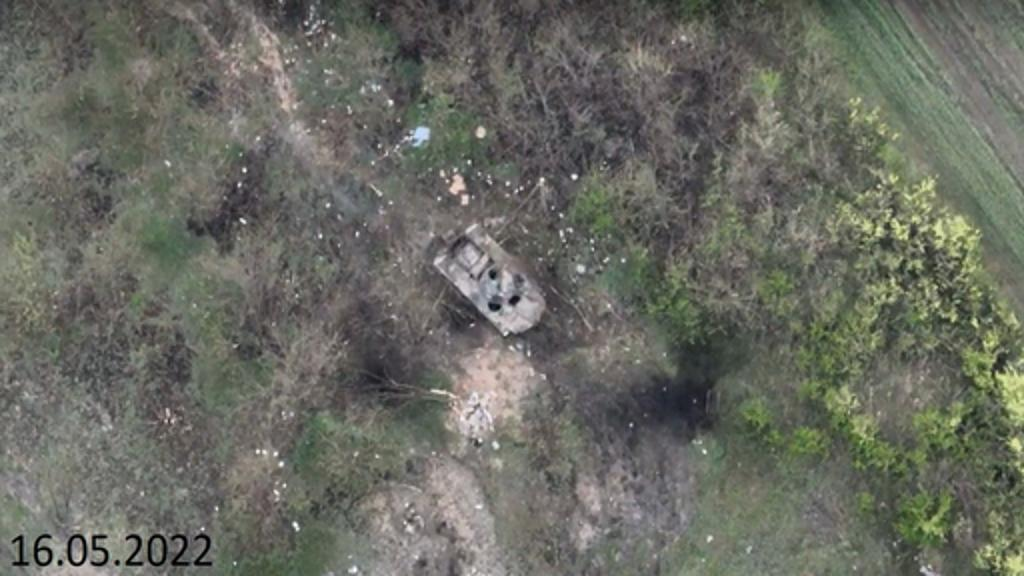APC-IFV: (416, 216, 556, 346)
